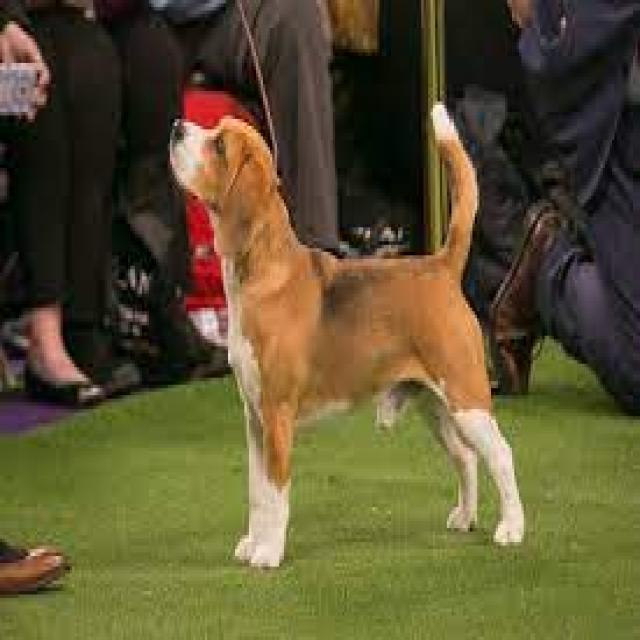Dog: (164, 95, 530, 574)
